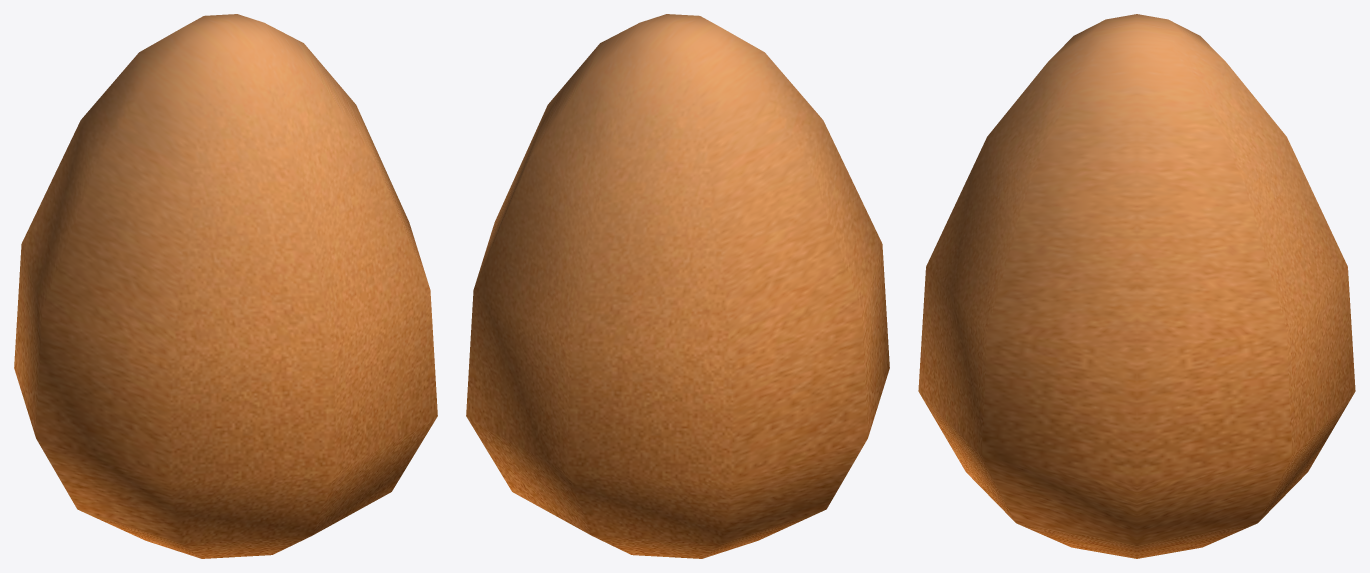
The model's file is BigBirdEgg.fbx.
The picture shows the model from 3 angles, left to right: view 1: azimuth 30°, elevation 25°; view 2: azimuth 150°, elevation 25°; view 3: azimuth 270°, elevation 25°; orthographic projection.
Parts seen in each view (by area): view 1: Egg; view 2: Egg; view 3: Egg.
Part boxes in pixels (x1,y1,x2,y2): Egg: (14,14,437,558); Egg: (466,14,889,558); Egg: (918,14,1355,558).
Bounding box in the file's own units: 0.5319 × 0.6873 × 0.5319.
Materials: 1 (1 with a texture image).
